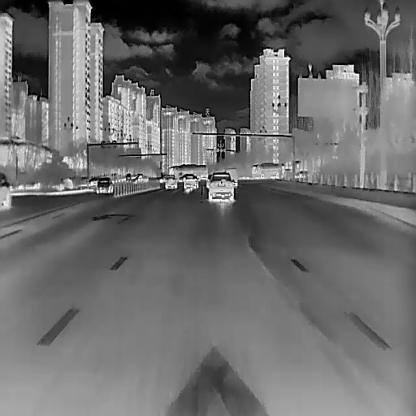bus: (166, 162, 208, 181), (249, 161, 280, 179)
car: (206, 170, 234, 199), (0, 170, 15, 210), (96, 176, 112, 193), (163, 173, 178, 189), (182, 173, 198, 188), (225, 167, 237, 186), (86, 176, 97, 186)
